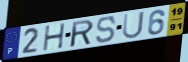2: (22, 27, 41, 55)
6: (147, 8, 167, 36)
H: (42, 22, 67, 53)
R: (70, 19, 95, 49)
S: (95, 15, 118, 44)
U: (122, 11, 146, 41)
